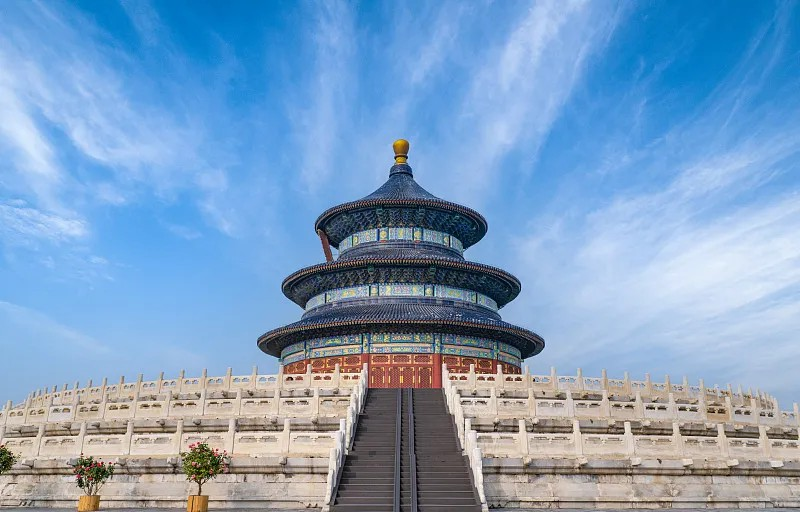Heaven: (255, 137, 546, 386)
